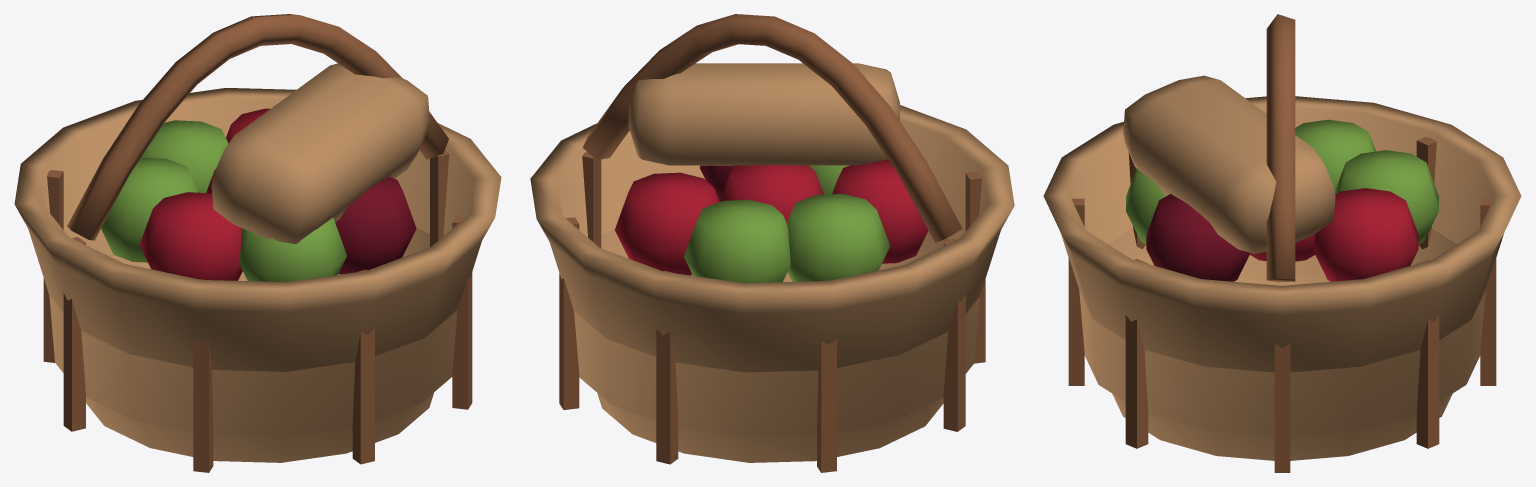
The model's file is basket.glb.
3 views of the same model, side by side, from view 1: azimuth 30°, elevation 25°; view 2: azimuth 150°, elevation 25°; view 3: azimuth 270°, elevation 25° (orthographic). The views are drawn at different scales.
Visible parts, largest first — view 1: basket; view 2: basket; view 3: basket.
Boxes of the visible parts, x1,y1,x2,y2 form: basket: (14,14,501,472); basket: (530,14,1014,472); basket: (1043,14,1521,472).
Size of the model in its own units: 0.36 by 0.3014 by 0.36.
